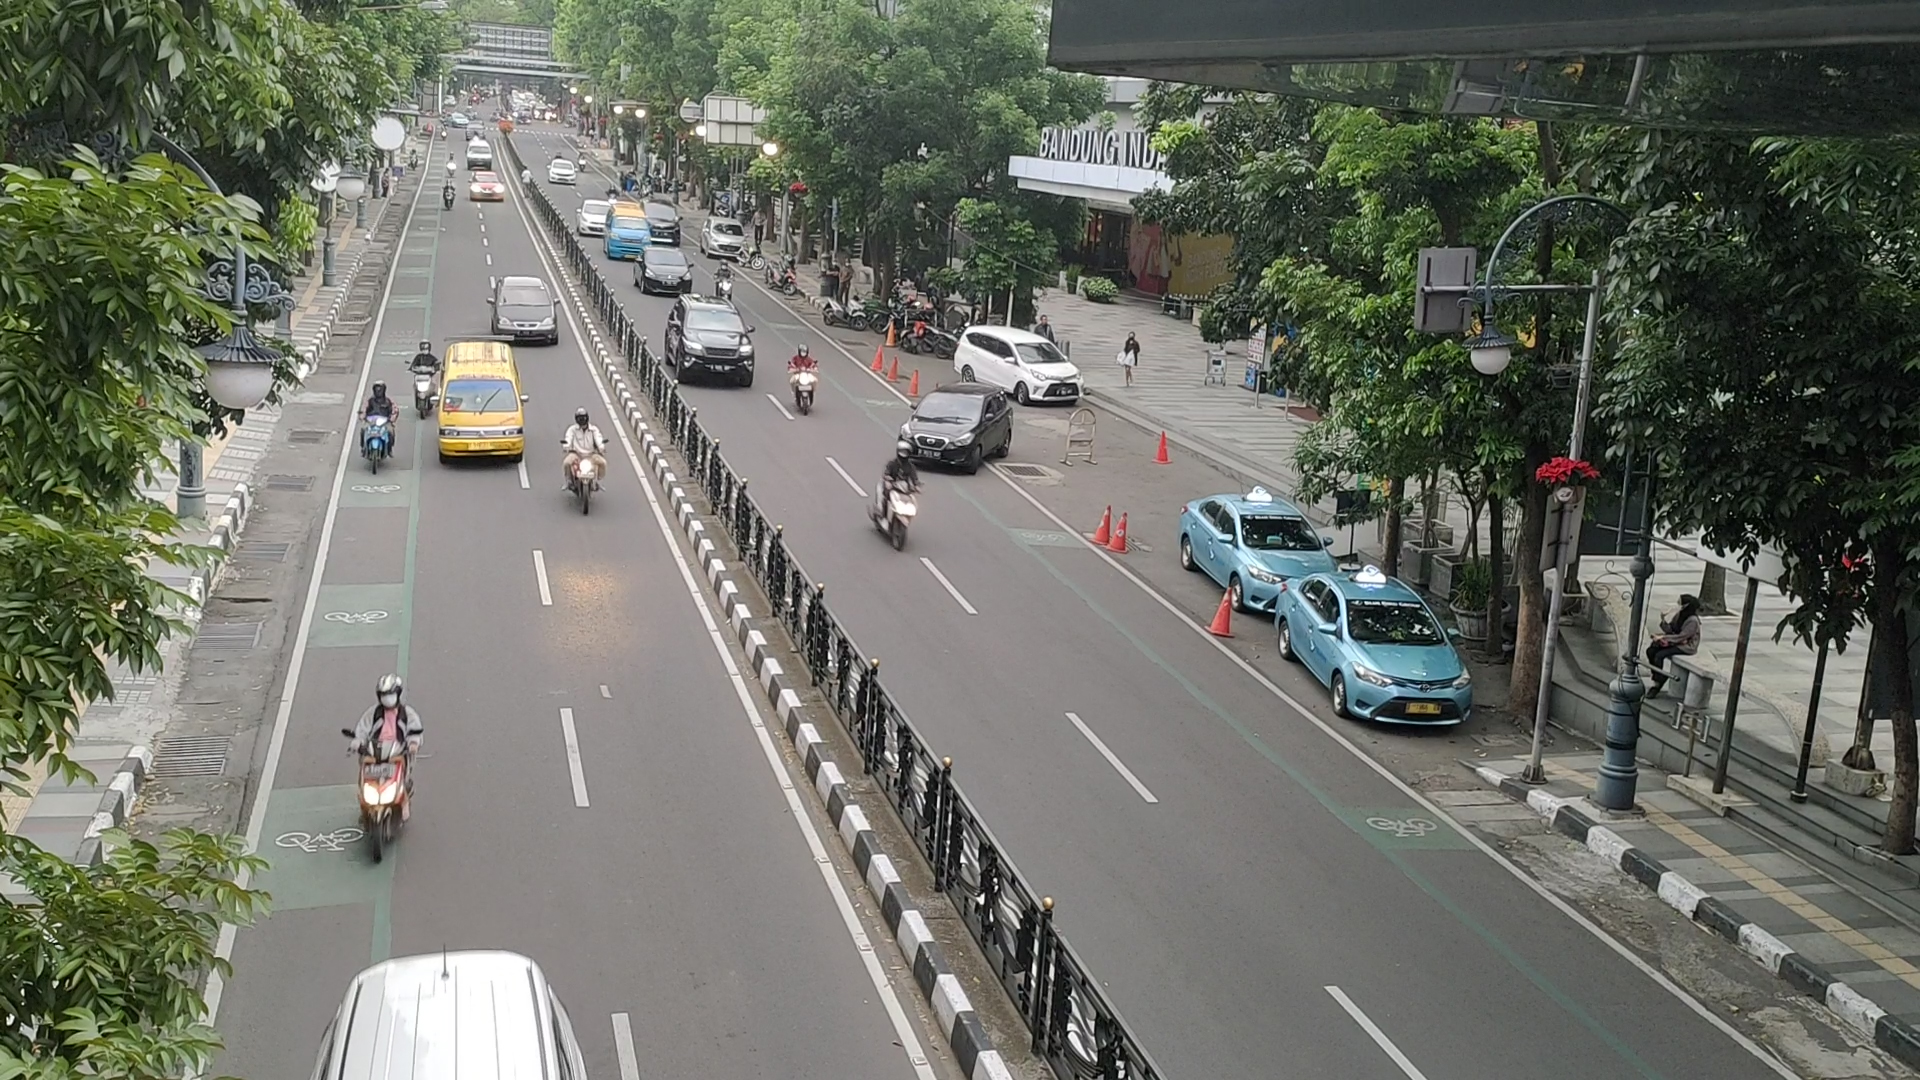mobil: (1331, 593, 1474, 733), (436, 367, 525, 472), (897, 388, 984, 473), (676, 301, 756, 386), (1005, 327, 1088, 404), (493, 278, 556, 347)
motor: (343, 676, 427, 866), (560, 404, 609, 517), (872, 442, 918, 555), (353, 381, 401, 477), (783, 342, 823, 419)
